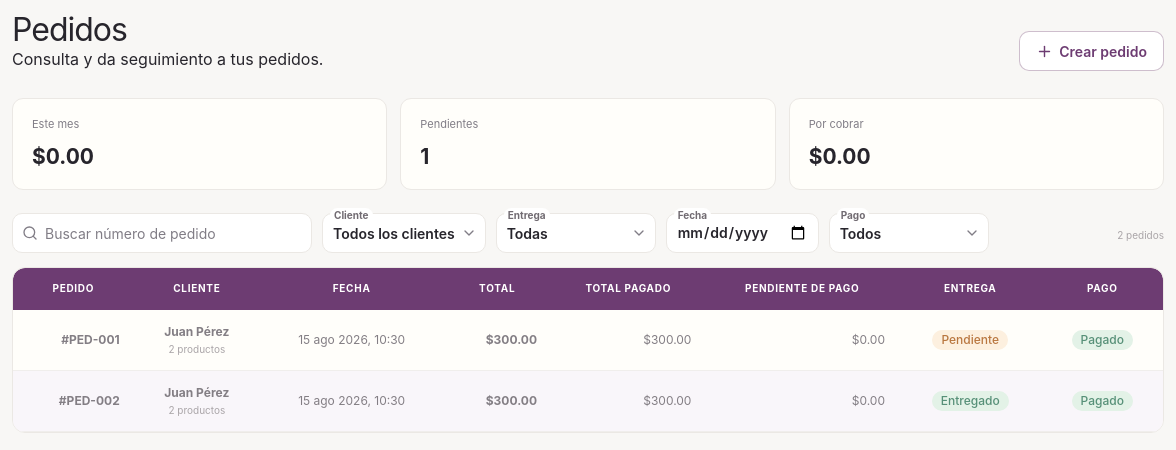
Test: OrdersPage › Filtros › debería filtrar pedidos por estado de entrega
Click the dropdown named "Filtrar por entrega": click(576, 233) [496,213,656,253]
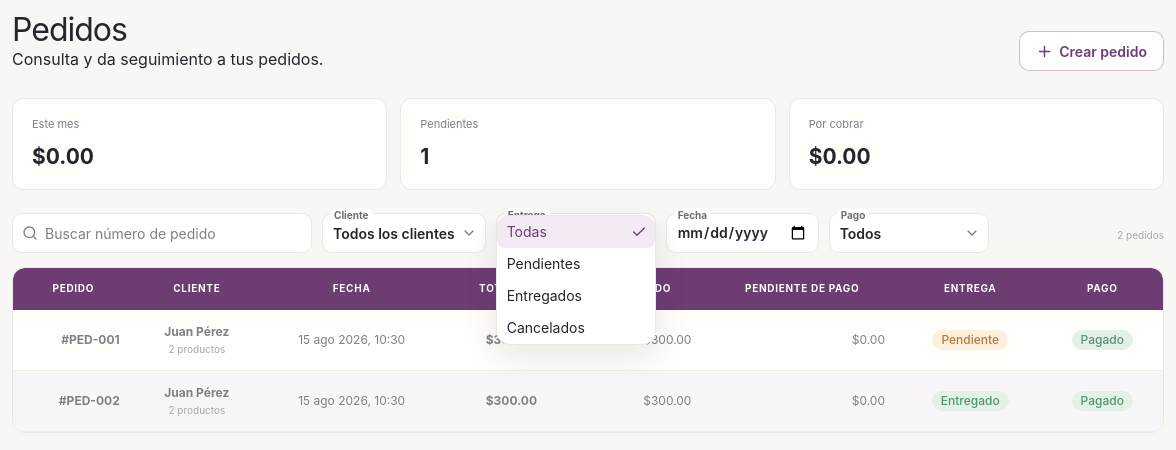
Click the option "Entregados": click(544, 296) [507,287,582,304]
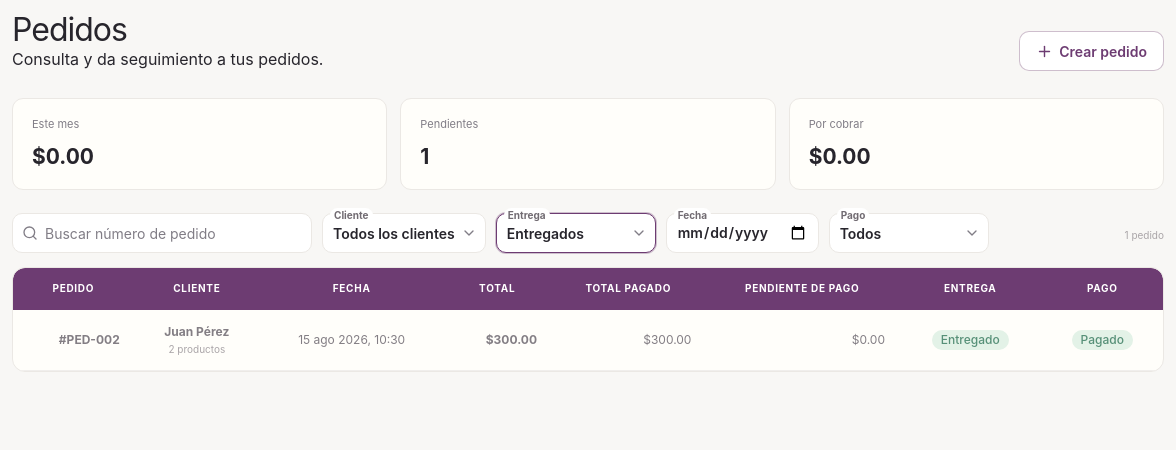
Expected: the text "#PED-002" is shown, [13,310,134,370]
Result: the text "#PED-001" is gone
